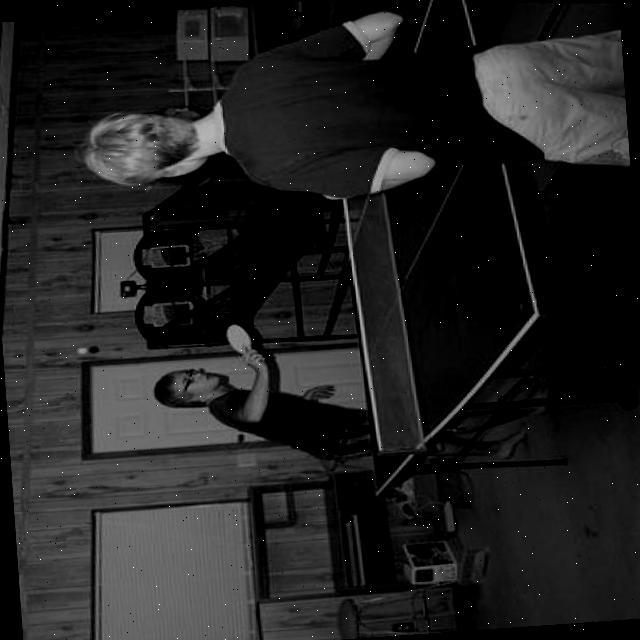ping-pong-ball: (74, 346, 86, 355)
